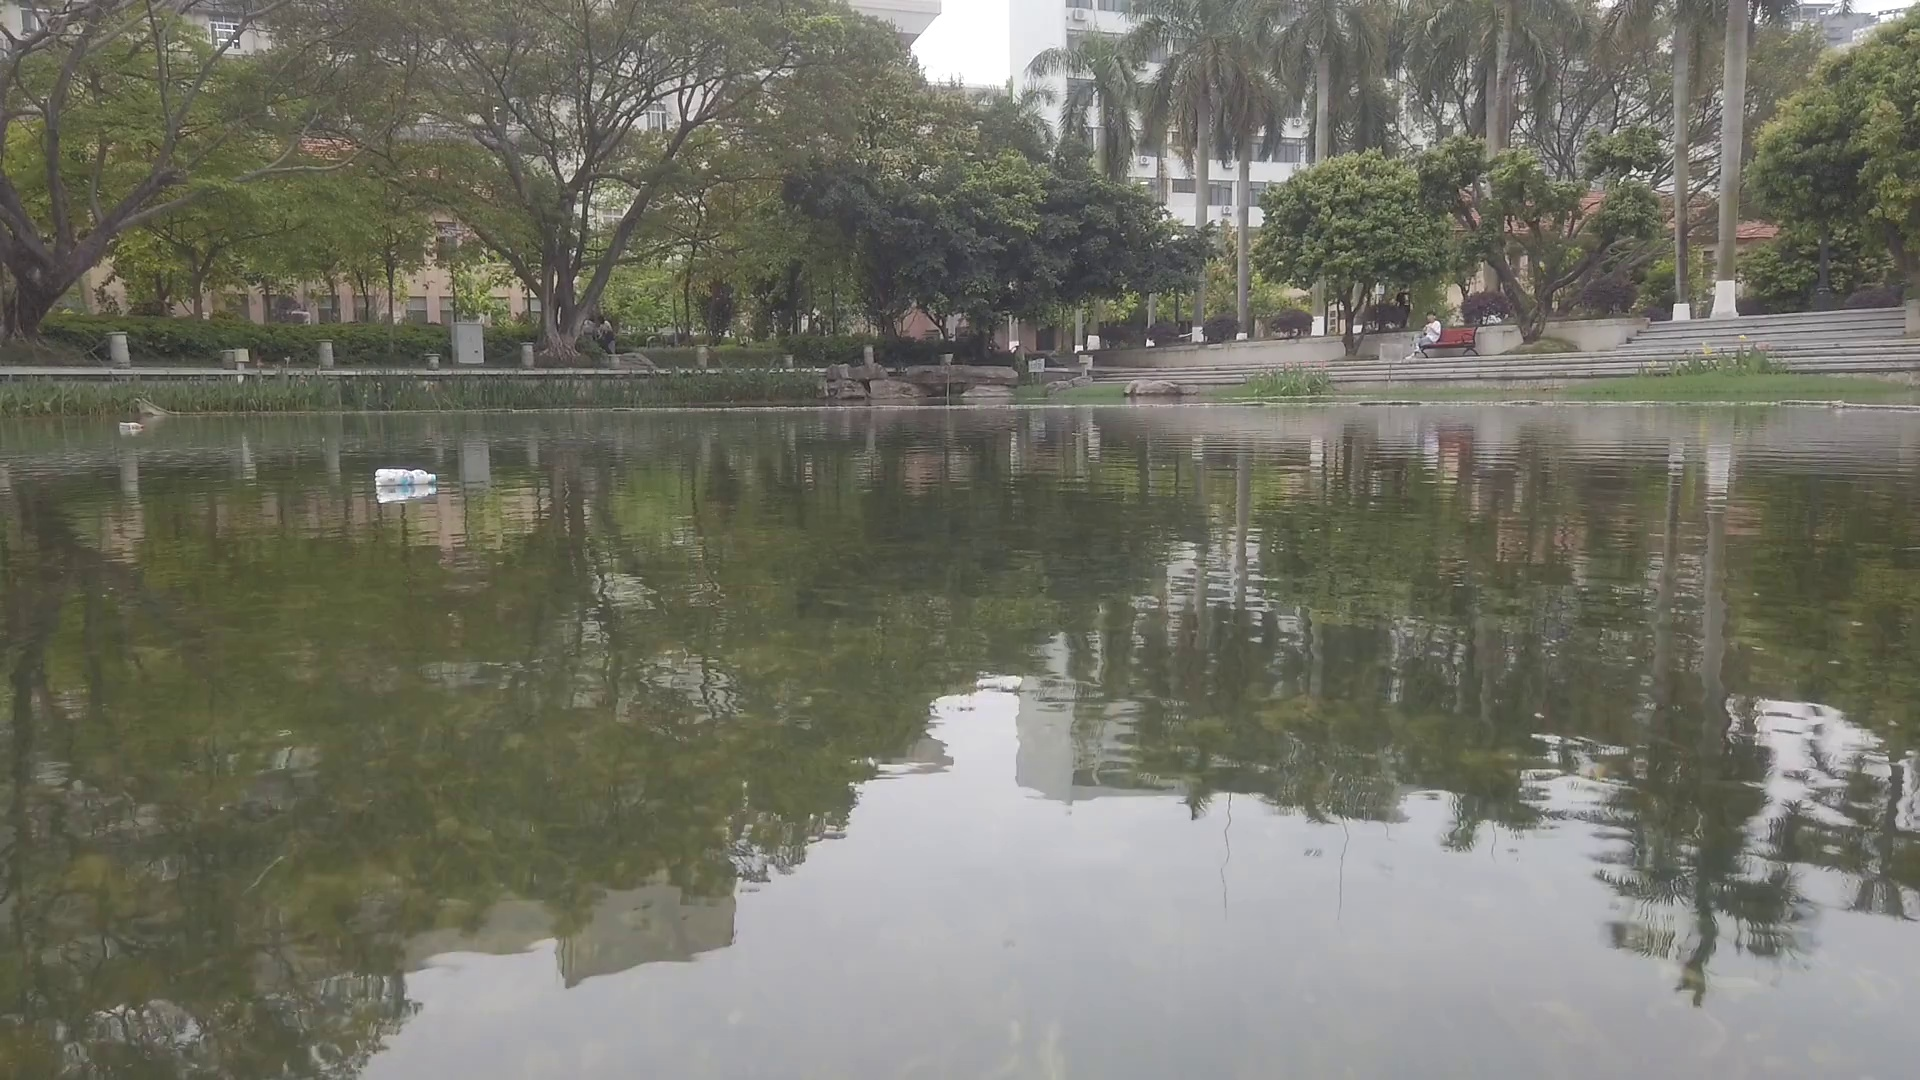bottle: (371, 467, 440, 491), (121, 419, 144, 434)
